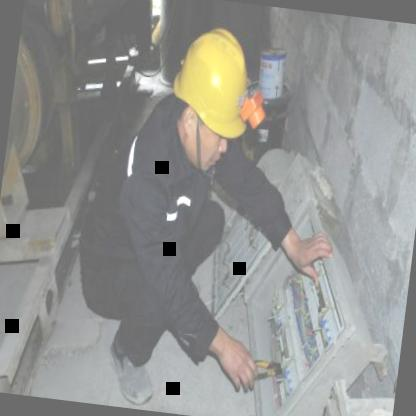helmet: (158, 15, 262, 176)
